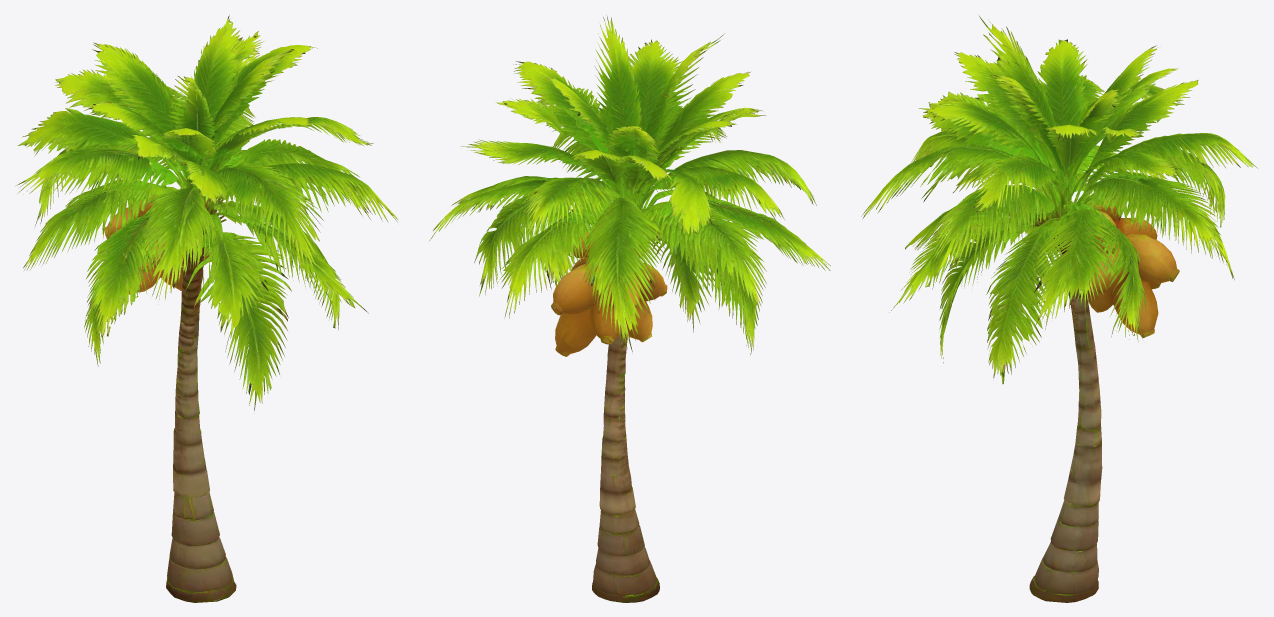
Rendered from palm.glb.
3 renders of one model, left to right at view 1: azimuth 30°, elevation 25°; view 2: azimuth 150°, elevation 25°; view 3: azimuth 270°, elevation 25°, orthographic. The views are drawn at different scales.
Bounding box in the file's own units: 1.22 × 1.89 × 1.25.
1 material, 1 textured.
